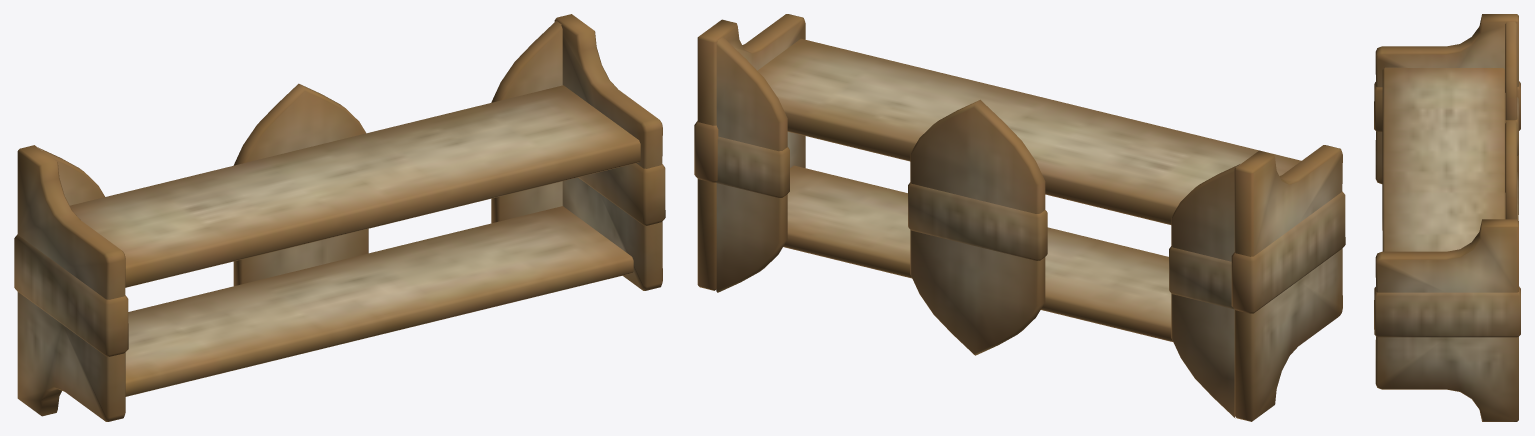
Rendered from t4_shelf_palmwood.glb.
The picture shows the model from 3 angles, left to right: view 1: azimuth 30°, elevation 25°; view 2: azimuth 150°, elevation 25°; view 3: azimuth 270°, elevation 25°; orthographic projection. The views are drawn at different scales.
Visible parts, largest first — view 1: env_desert_props_shelf_wall_01; view 2: env_desert_props_shelf_wall_01; view 3: env_desert_props_shelf_wall_01.
Boxes of the visible parts, x1,y1,x2,y2 form: env_desert_props_shelf_wall_01: (14, 14, 665, 421); env_desert_props_shelf_wall_01: (694, 14, 1345, 421); env_desert_props_shelf_wall_01: (1374, 14, 1520, 421).
Size of the model in its own units: 2.06 by 0.8918 by 0.5962.
Materials: 1 (1 with a texture image).
